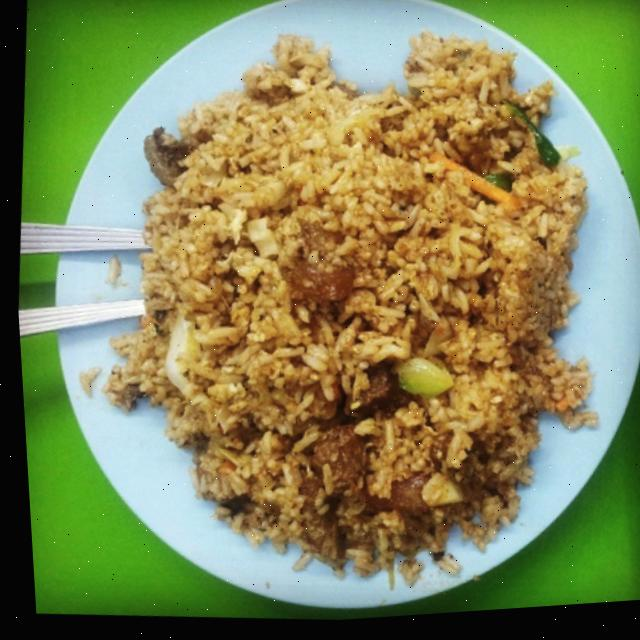米饭主食: (32, 0, 640, 620)
